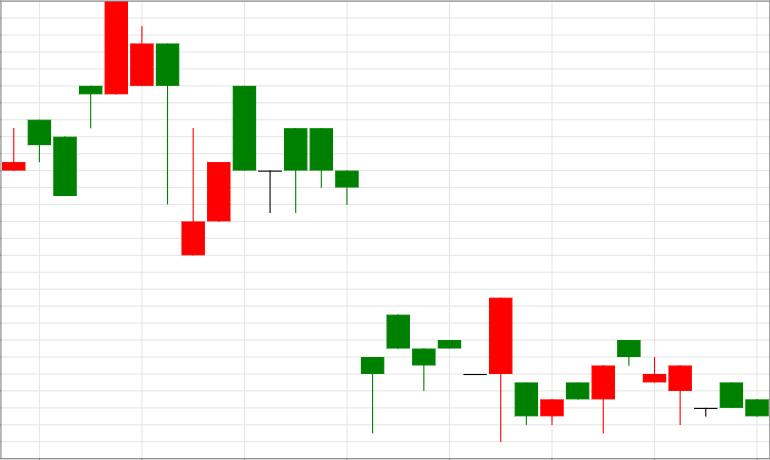inverse_hammer_rise: (105, 1, 205, 256)
